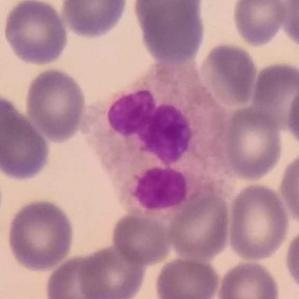Neutrophil: (78, 57, 230, 210)
RBC: (4, 197, 77, 273), (225, 180, 291, 262), (23, 66, 88, 144), (221, 104, 284, 182), (0, 93, 53, 183), (166, 190, 233, 261), (134, 1, 207, 65), (1, 0, 70, 67), (197, 41, 260, 107), (76, 243, 149, 299), (109, 212, 173, 266), (43, 251, 112, 299), (152, 255, 222, 299), (249, 60, 299, 119), (59, 0, 130, 41), (230, 0, 290, 48), (215, 259, 282, 299), (130, 0, 204, 29), (276, 147, 299, 229), (282, 224, 299, 296), (277, 0, 299, 51), (284, 79, 299, 151)
